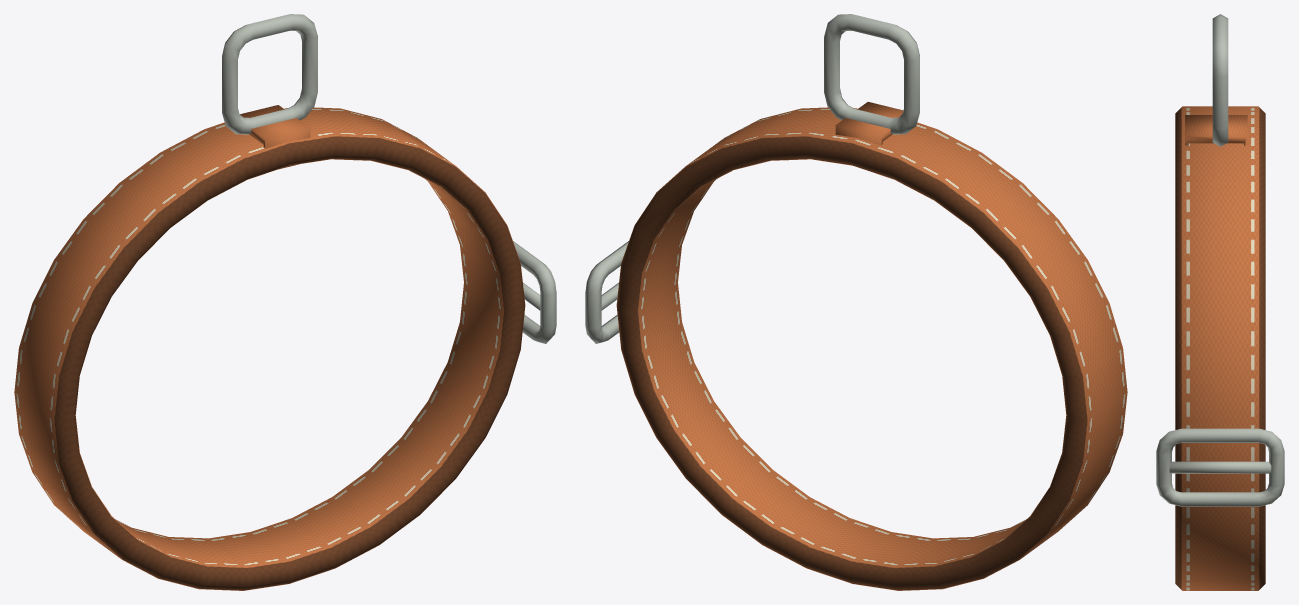
The model's file is KH_Collar_Pome.fbx.
The picture shows the model from 3 angles, left to right: view 1: azimuth 30°, elevation 25°; view 2: azimuth 150°, elevation 25°; view 3: azimuth 270°, elevation 25°; orthographic projection. The views are drawn at different scales.
Visible parts, largest first — view 1: KH_Collar_Pome; view 2: KH_Collar_Pome; view 3: KH_Collar_Pome.
Part boxes in pixels (x1=…): KH_Collar_Pome: x1=14, y1=14, x2=556, y2=590; KH_Collar_Pome: x1=585, y1=14, x2=1127, y2=590; KH_Collar_Pome: x1=1156, y1=14, x2=1284, y2=590.
Size of the model in its own units: 0.1969 by 0.2107 by 0.0456.
Materials: 1 (1 with a texture image).
